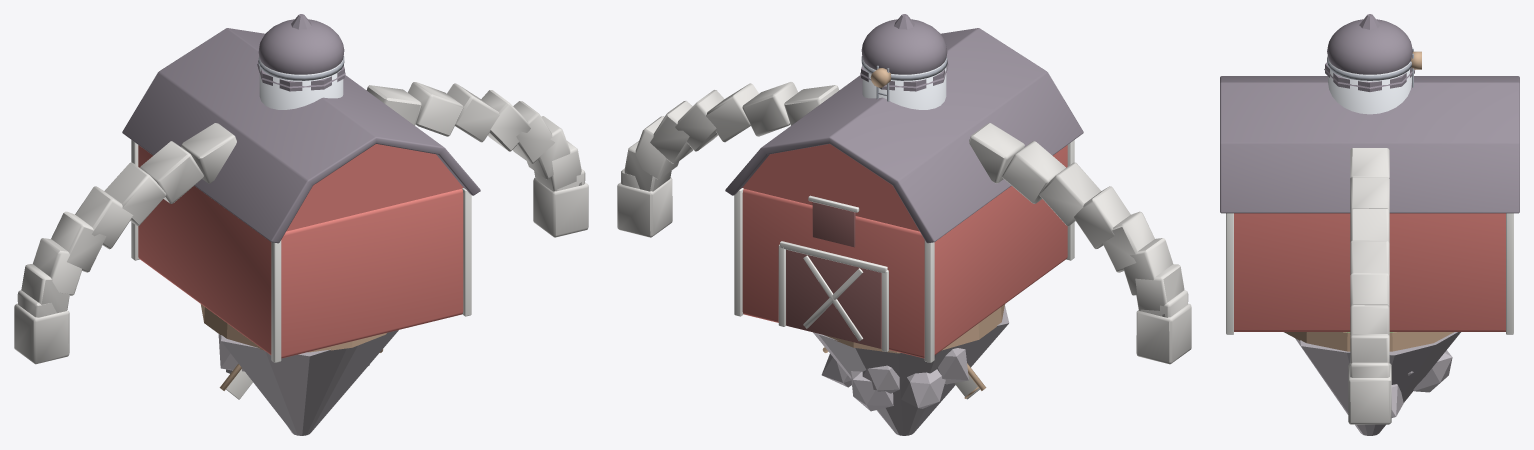
File: Props.glb
3 renders of one model, left to right at view 1: azimuth 30°, elevation 25°; view 2: azimuth 150°, elevation 25°; view 3: azimuth 270°, elevation 25°, orthographic.
Visible parts, largest first — view 1: Barn__Red, Barn__Roof, TunnelArch__Stone, Island__Rock, Silo__Roof, Barn__White, Silo__Metal, Island__Dirt, Windmill__Roof; view 2: Barn__Red, TunnelArch__Stone, Barn__Roof, Island__Rock, Barn__Dark, Barn__White, Silo__Roof, Silo__Metal, Island__Dirt, Windmill__Roof, Silo__Band; view 3: Barn__Roof, Barn__Red, TunnelArch__Stone, Island__Rock, Silo__Roof, Silo__Metal, Barn__White, Island__Dirt, Windmill__Roof, Silo__Band.
Boxes of the visible parts, left/top/right/bottom form: Barn__Red: left=138, top=144, right=463, bottom=358; Barn__Roof: left=122, top=28, right=480, bottom=243; TunnelArch__Stone: left=14, top=82, right=588, bottom=364; Island__Rock: left=218, top=330, right=398, bottom=435; Silo__Roof: left=258, top=19, right=344, bottom=74; Barn__White: left=131, top=140, right=471, bottom=362; Silo__Metal: left=259, top=59, right=343, bottom=109; Island__Dirt: left=200, top=304, right=386, bottom=352; Windmill__Roof: left=257, top=14, right=345, bottom=91; Barn__Red: left=742, top=144, right=1067, bottom=358; TunnelArch__Stone: left=617, top=82, right=1191, bottom=364; Barn__Roof: left=725, top=28, right=1083, bottom=243; Island__Rock: left=813, top=305, right=1009, bottom=435; Barn__Dark: left=786, top=202, right=881, bottom=348; Barn__White: left=734, top=140, right=1074, bottom=362; Silo__Roof: left=861, top=19, right=947, bottom=74; Silo__Metal: left=862, top=59, right=946, bottom=109; Island__Dirt: left=824, top=304, right=1005, bottom=353; Windmill__Roof: left=860, top=14, right=948, bottom=91; Silo__Band: left=861, top=56, right=947, bottom=101; Barn__Roof: left=1220, top=76, right=1519, bottom=213; Barn__Red: left=1234, top=213, right=1505, bottom=331; TunnelArch__Stone: left=1348, top=148, right=1391, bottom=424; Island__Rock: left=1295, top=332, right=1460, bottom=435; Silo__Roof: left=1327, top=19, right=1412, bottom=74; Silo__Metal: left=1328, top=58, right=1411, bottom=114; Barn__White: left=1226, top=213, right=1513, bottom=334; Island__Dirt: left=1284, top=332, right=1453, bottom=351; Windmill__Roof: left=1324, top=14, right=1415, bottom=91; Silo__Band: left=1327, top=48, right=1413, bottom=87.
Bounding box in the file's own units: 64.16 × 46 × 30.
